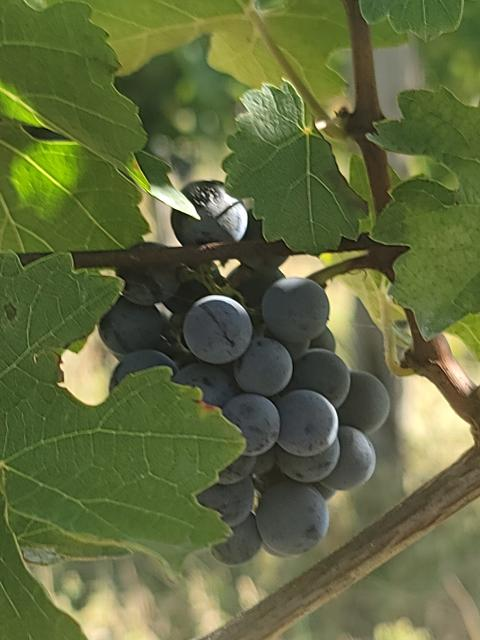grapes: (100, 261, 390, 565)
